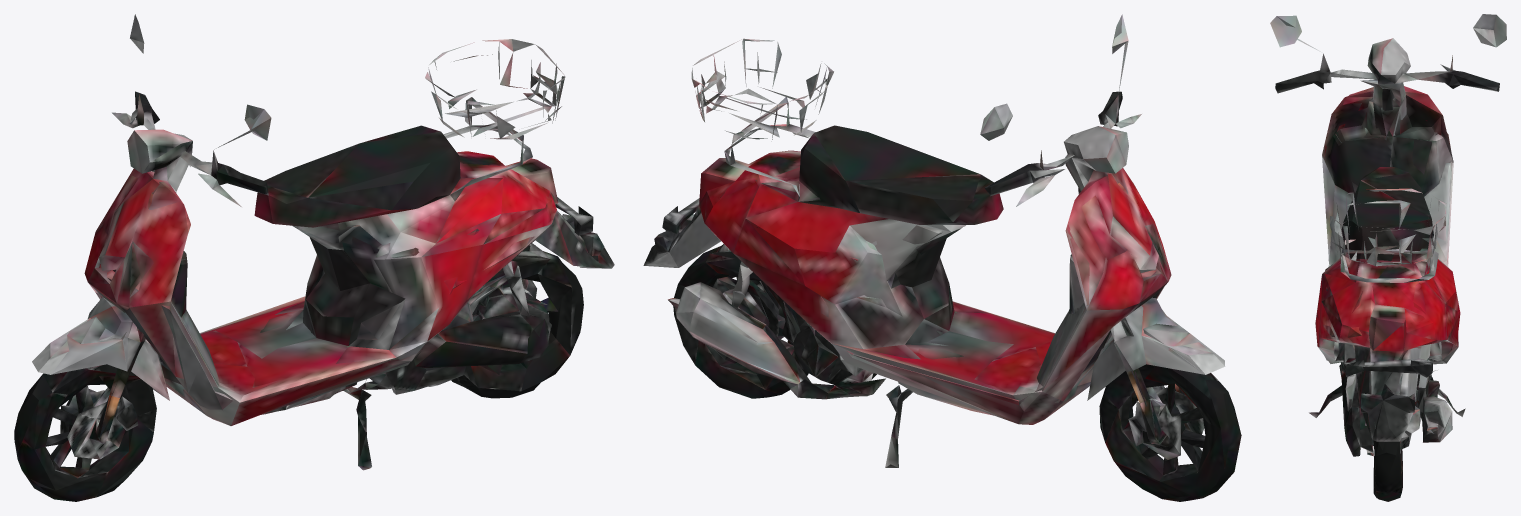
File: scooter_low.glb
3 renders of one model, left to right at view 1: azimuth 30°, elevation 25°; view 2: azimuth 150°, elevation 25°; view 3: azimuth 270°, elevation 25°, orthographic. The views are drawn at different scales.
Parts seen in each view (by area): view 1: scooter; view 2: scooter; view 3: scooter.
Boxes of the visible parts, x1,y1,x2,y2 form: scooter: [14, 14, 614, 501]; scooter: [643, 14, 1241, 501]; scooter: [1270, 14, 1506, 501].
Bounding box in the file's own units: 1.8 × 1.19 × 0.7317.
1 material, 1 textured.
